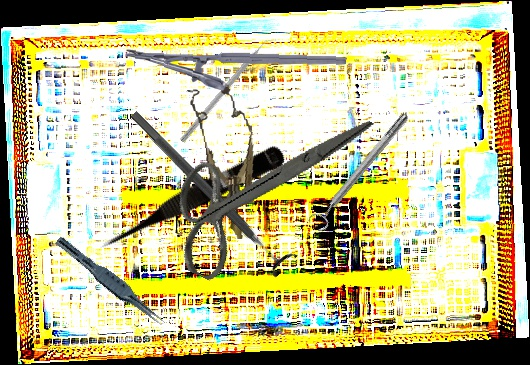Chopper: (179, 33, 279, 148)
Fixation Ring: (121, 101, 299, 280), (305, 108, 416, 235)
Iris Scissors: (149, 60, 377, 317)
Micro Scissor: (92, 139, 289, 257)
Needle Holder: (124, 47, 347, 96)
Speculum: (186, 81, 269, 244)
Tissue Forceps: (50, 235, 170, 329)
